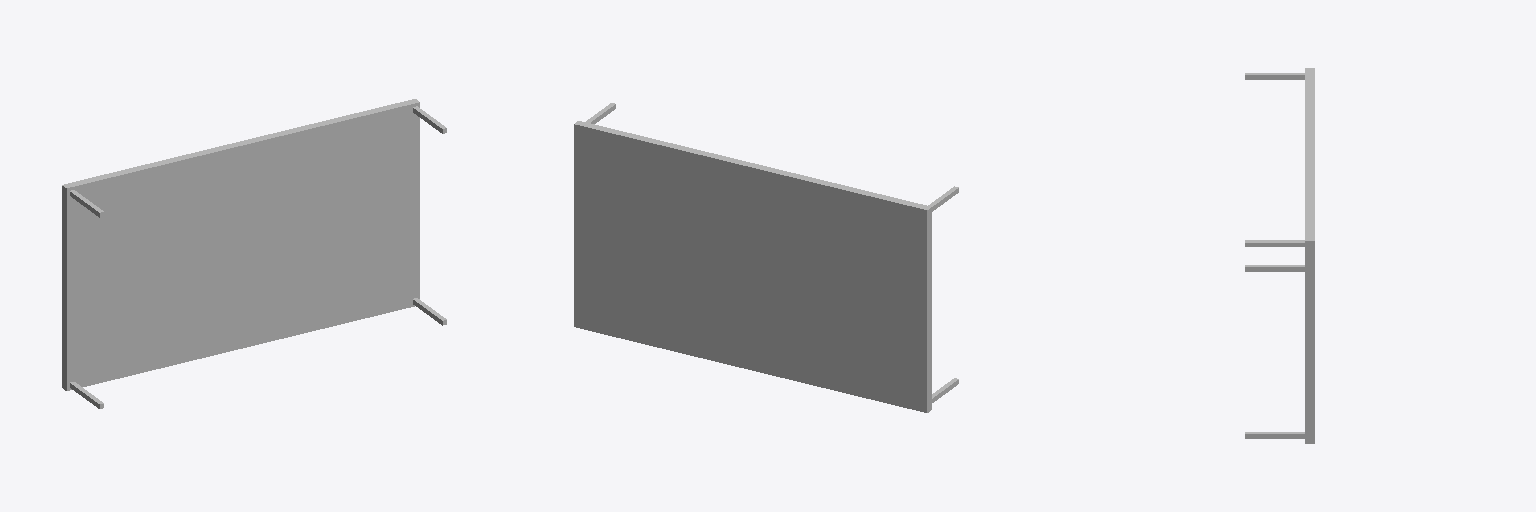
File: random_table5.obj
3 renders of one model, left to right at view 1: azimuth 30°, elevation 25°; view 2: azimuth 150°, elevation 25°; view 3: azimuth 270°, elevation 25°, orthographic.
Parts seen in each view (by area): view 1: Table_Cube.220; view 2: Table_Cube.220; view 3: Table_Cube.220.
Boxes of the visible parts, x1,y1,x2,y2 form: Table_Cube.220: [62, 99, 419, 390]; Table_Cube.220: [574, 121, 931, 412]; Table_Cube.220: [1305, 68, 1314, 443].
Size of the model in its own units: 11.48 by 6.3 by 1.96.